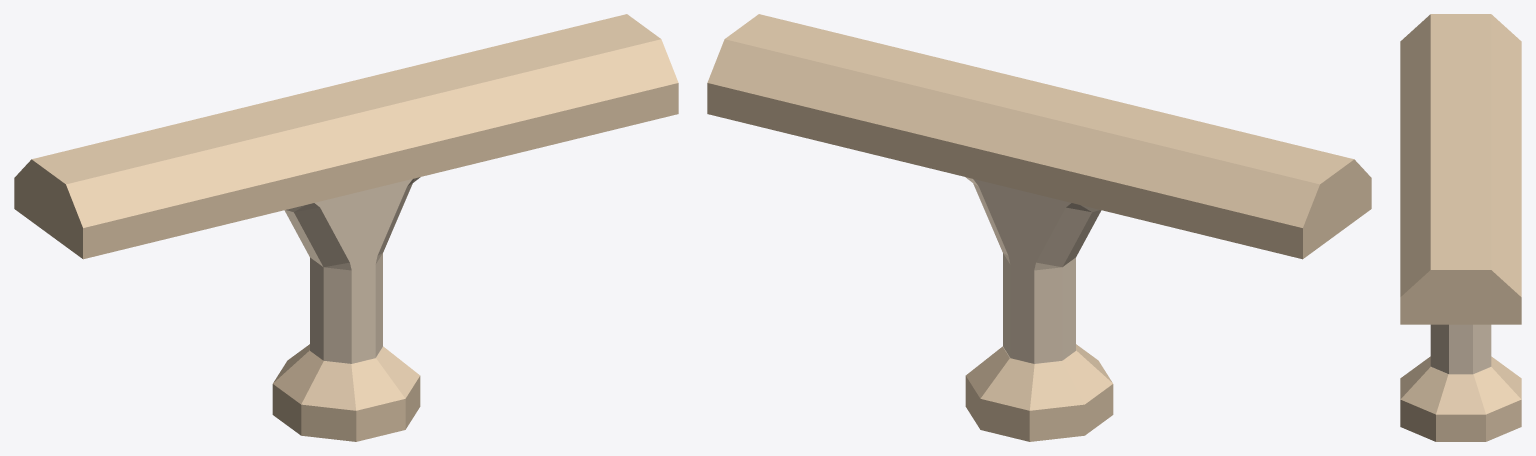
File: opengameart-modular-temple-3d-models_4.glb
3 renders of one model, left to right at view 1: azimuth 30°, elevation 25°; view 2: azimuth 150°, elevation 25°; view 3: azimuth 270°, elevation 25°, orthographic. The views are drawn at different scales.
Visible parts, largest first — view 1: object1; view 2: object1; view 3: object1.
Boxes of the visible parts, bbox=[...] form: object1: bbox=[14, 14, 678, 441]; object1: bbox=[707, 14, 1371, 441]; object1: bbox=[1400, 14, 1521, 441].
Size of the model in its own units: 1 by 0.5 by 0.2.
